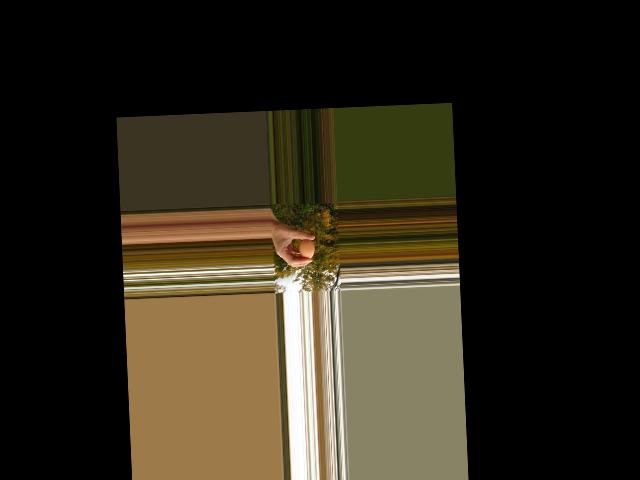egg: (299, 238, 315, 259)
